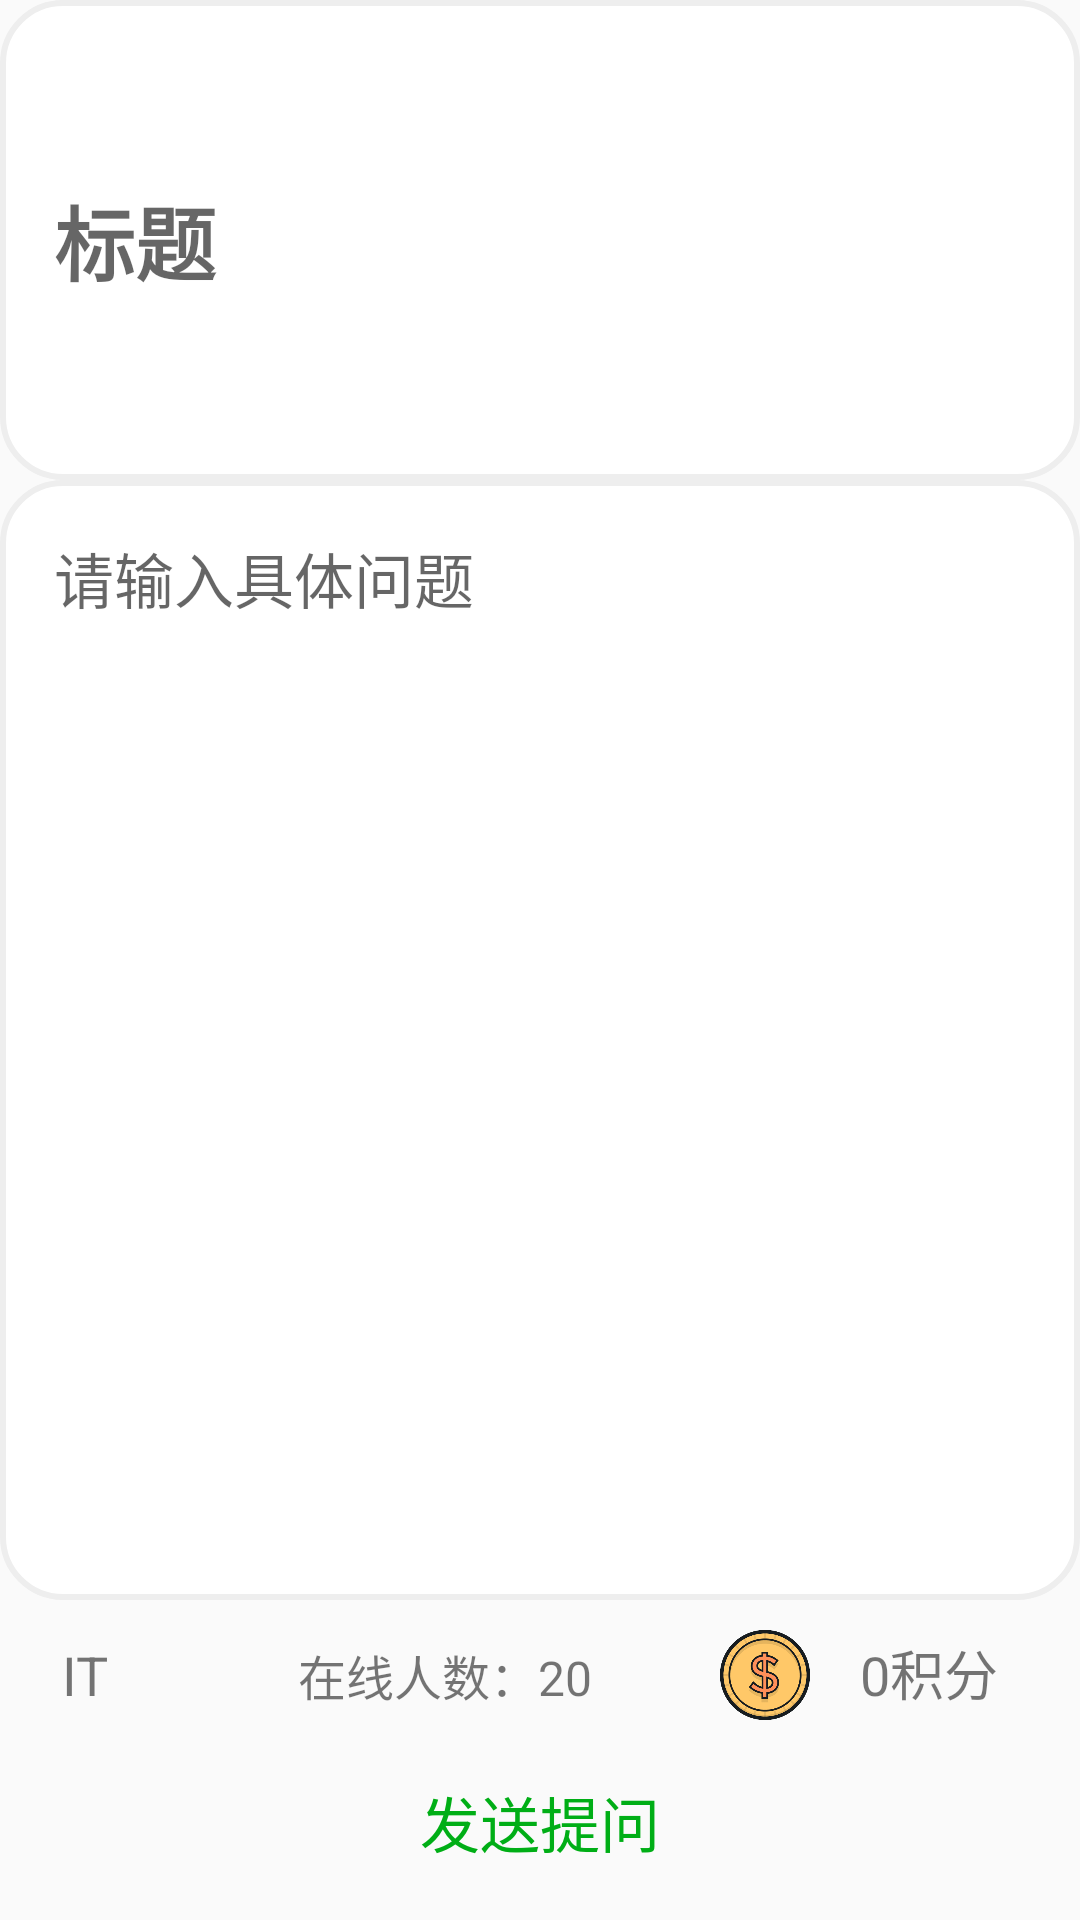

Screen size 1080*1920. Icon name, then its box in pixels as BBox(x1, y1, x2, y2):
money: BBox(720, 1630, 810, 1720)
